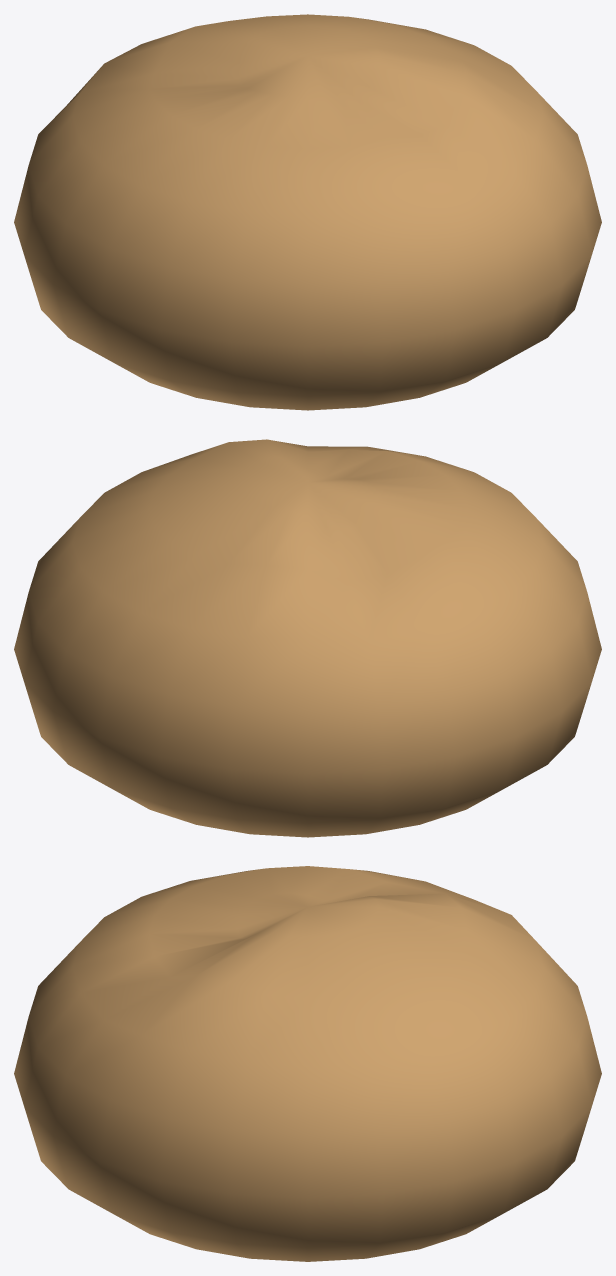
Rendered from ARCH-FOOD-SOURDOUGH-BOULE.glb.
3 views of the same model, one above another, from view 1: azimuth 30°, elevation 25°; view 2: azimuth 150°, elevation 25°; view 3: azimuth 270°, elevation 25° (orthographic).
Visible parts, largest first — view 1: asset_arch_food_sourdough_boule; view 2: asset_arch_food_sourdough_boule; view 3: asset_arch_food_sourdough_boule.
Part boxes in pixels (x1=…): asset_arch_food_sourdough_boule: x1=14, y1=14, x2=601, y2=410; asset_arch_food_sourdough_boule: x1=14, y1=439, x2=601, y2=837; asset_arch_food_sourdough_boule: x1=14, y1=866, x2=601, y2=1261.
Bounding box in the file's own units: 0.221 × 0.108 × 0.221.
